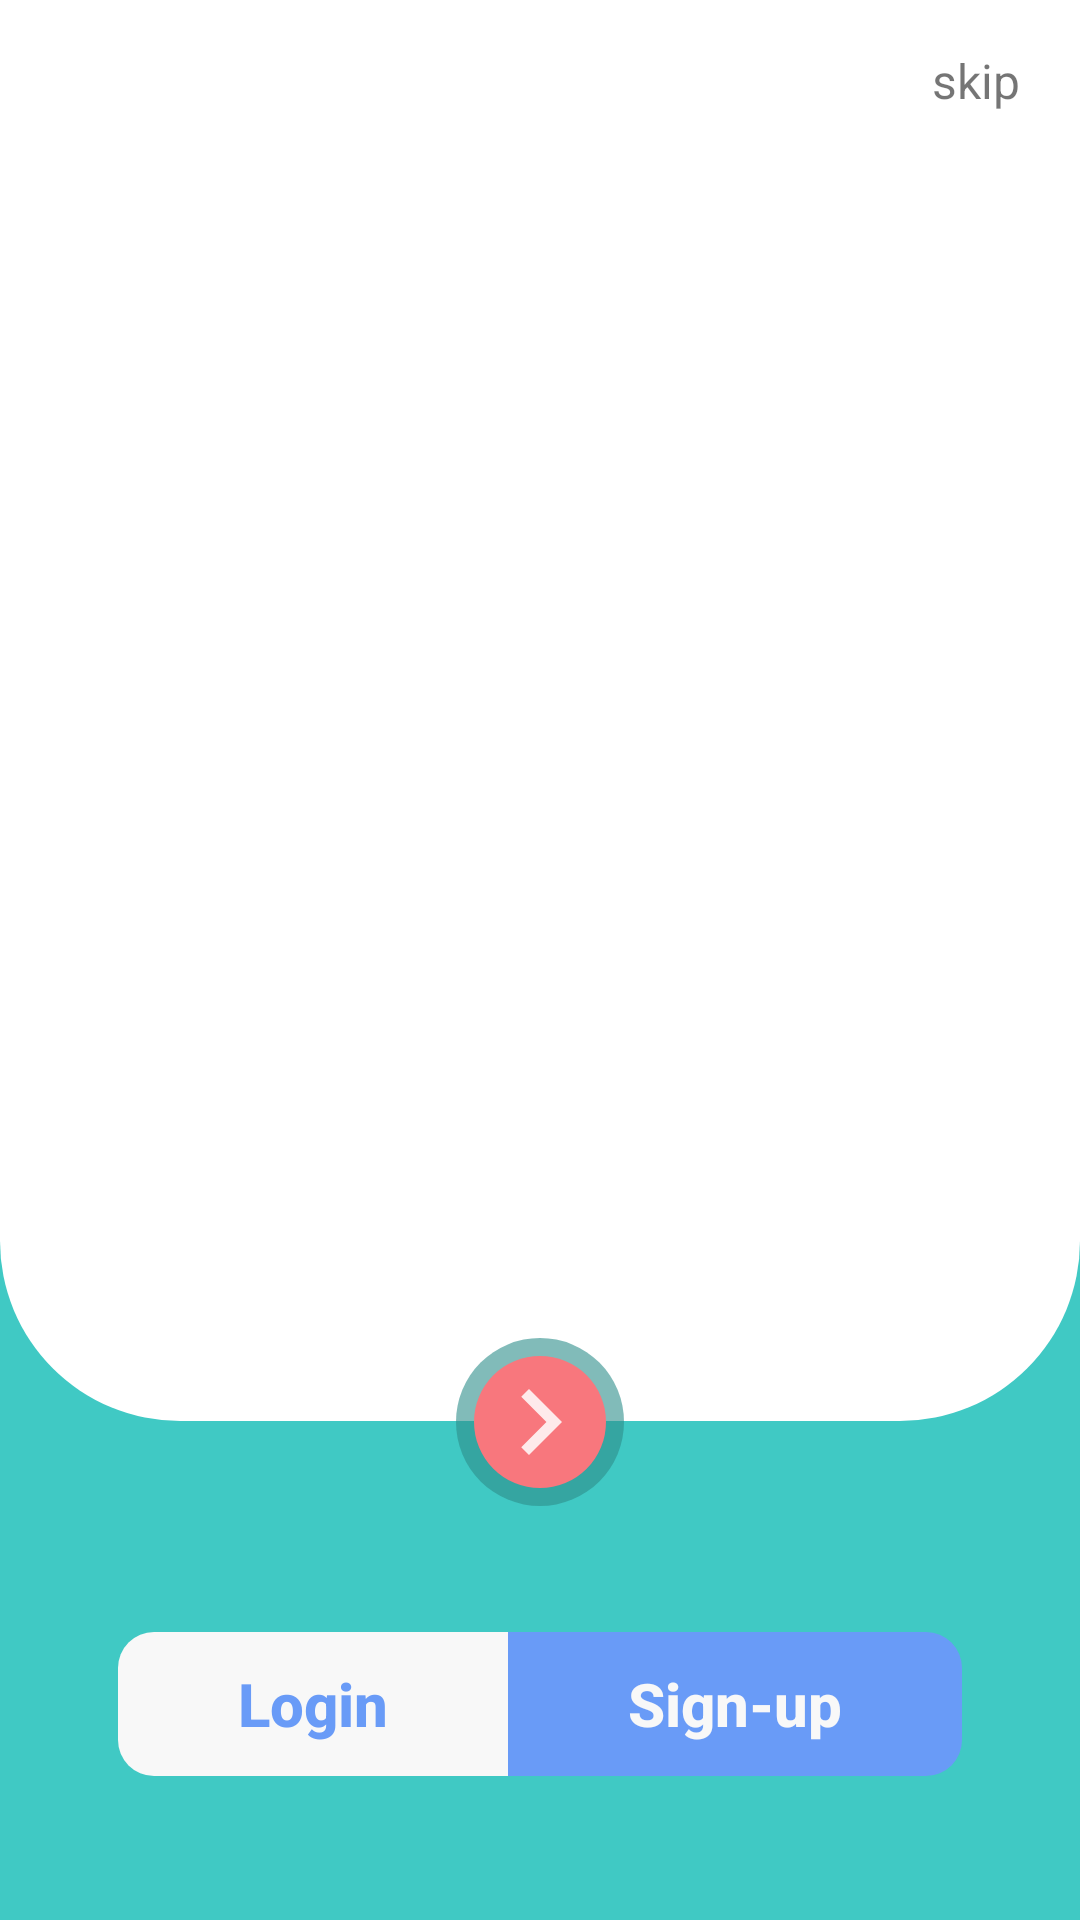

Point at icon controls on the screen. Image size 1080 x 1920, points as (x=x, y=y).
right: (x=540, y=1422)
